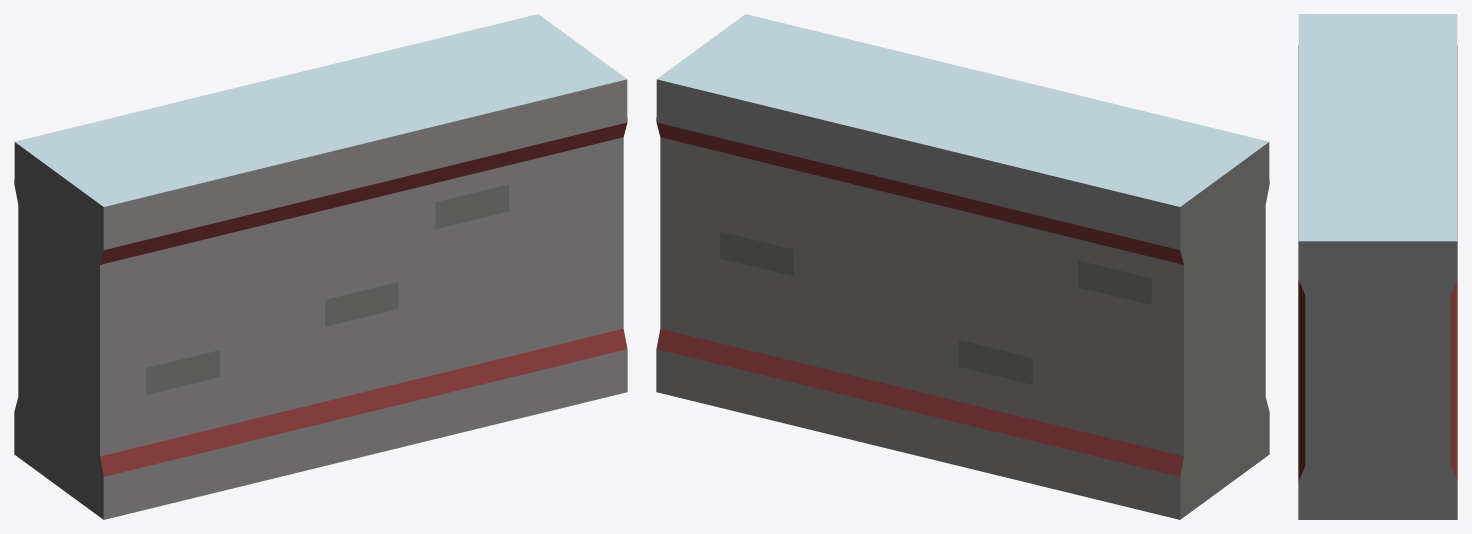
The model's file is SM_Bld_Knights_Castle_03_Snow.fbx.
The picture shows the model from 3 angles, left to right: view 1: azimuth 30°, elevation 25°; view 2: azimuth 150°, elevation 25°; view 3: azimuth 270°, elevation 25°; orthographic projection. The views are drawn at different scales.
Parts seen in each view (by area): view 1: SM_Bld_Knights_Castle_03_Snow; view 2: SM_Bld_Knights_Castle_03_Snow; view 3: SM_Bld_Knights_Castle_03_Snow.
Boxes of the visible parts, <box> form: SM_Bld_Knights_Castle_03_Snow: <box>14,14,627,519</box>; SM_Bld_Knights_Castle_03_Snow: <box>656,14,1269,519</box>; SM_Bld_Knights_Castle_03_Snow: <box>1298,14,1457,519</box>.
Size of the model in its own units: 154 by 87.64 by 45.36.
Materials: 1 (1 with a texture image).
